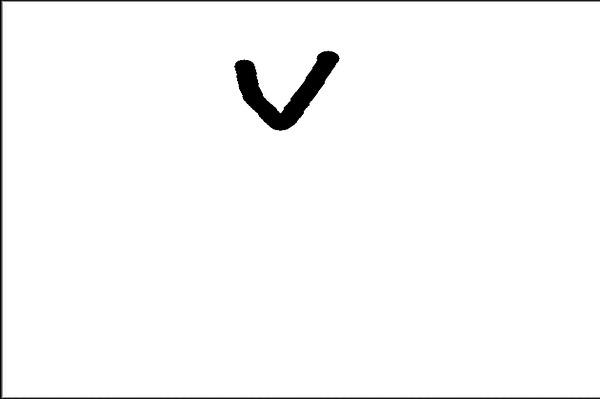V: (232, 45, 344, 132)
